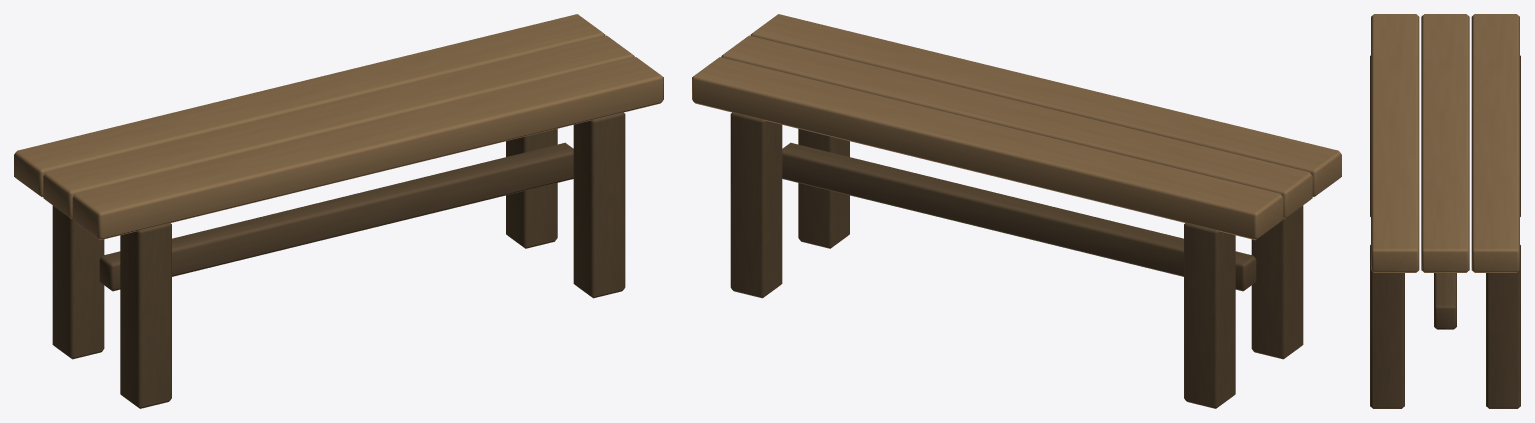
File: s01-bank.glb
3 renders of one model, left to right at view 1: azimuth 30°, elevation 25°; view 2: azimuth 150°, elevation 25°; view 3: azimuth 270°, elevation 25°, orthographic. The views are drawn at different scales.
Parts seen in each view (by area): view 1: s01-bank; view 2: s01-bank; view 3: s01-bank.
Boxes of the visible parts, x1,y1,x2,y2 form: s01-bank: (14, 14, 663, 408); s01-bank: (692, 14, 1341, 408); s01-bank: (1370, 14, 1520, 408).
Size of the model in its own units: 1.45 by 0.505 by 0.39.
1 material, 1 textured.
